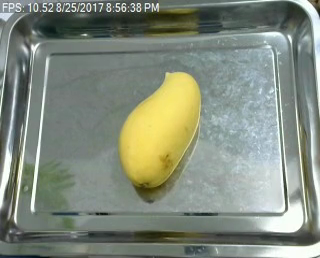Mango: (117, 67, 204, 191)
